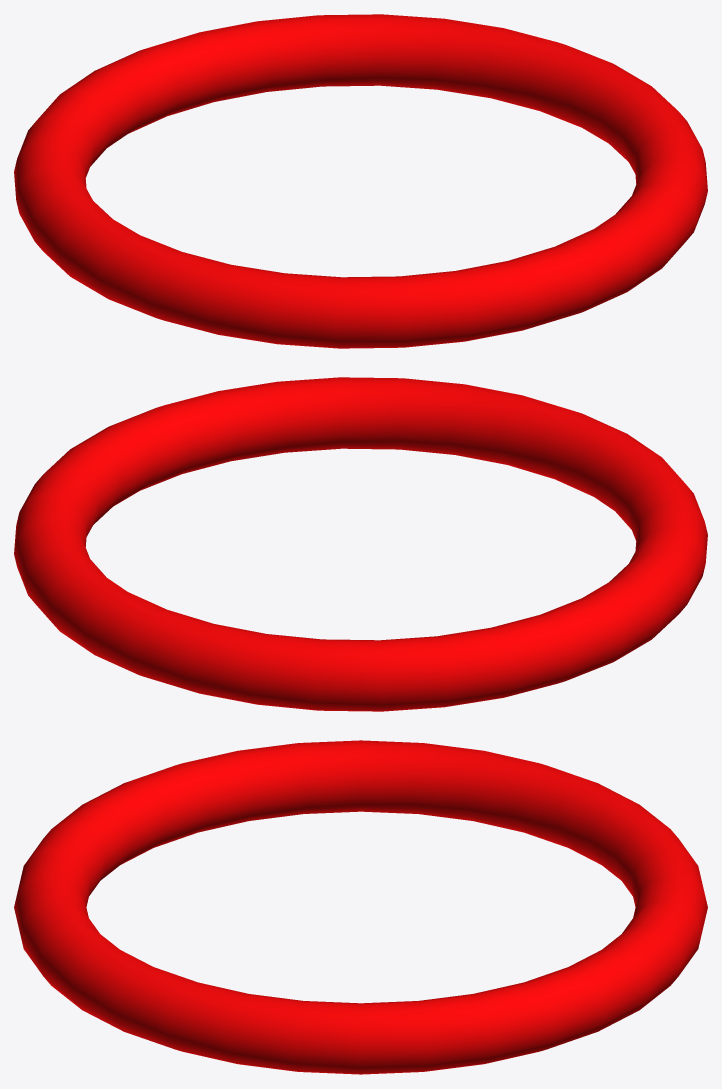
3 renders of one model, top to bottom at view 1: azimuth 30°, elevation 25°; view 2: azimuth 150°, elevation 25°; view 3: azimuth 270°, elevation 25°, orthographic.
Visible parts, largest first — view 1: Torus001; view 2: Torus001; view 3: Torus001.
Part boxes in pixels (x1=…): Torus001: x1=14, y1=14, x2=707, y2=348; Torus001: x1=14, y1=377, x2=707, y2=711; Torus001: x1=14, y1=740, x2=707, y2=1074.
Size of the model in its own units: 70.03 by 7.19 by 70.03.
